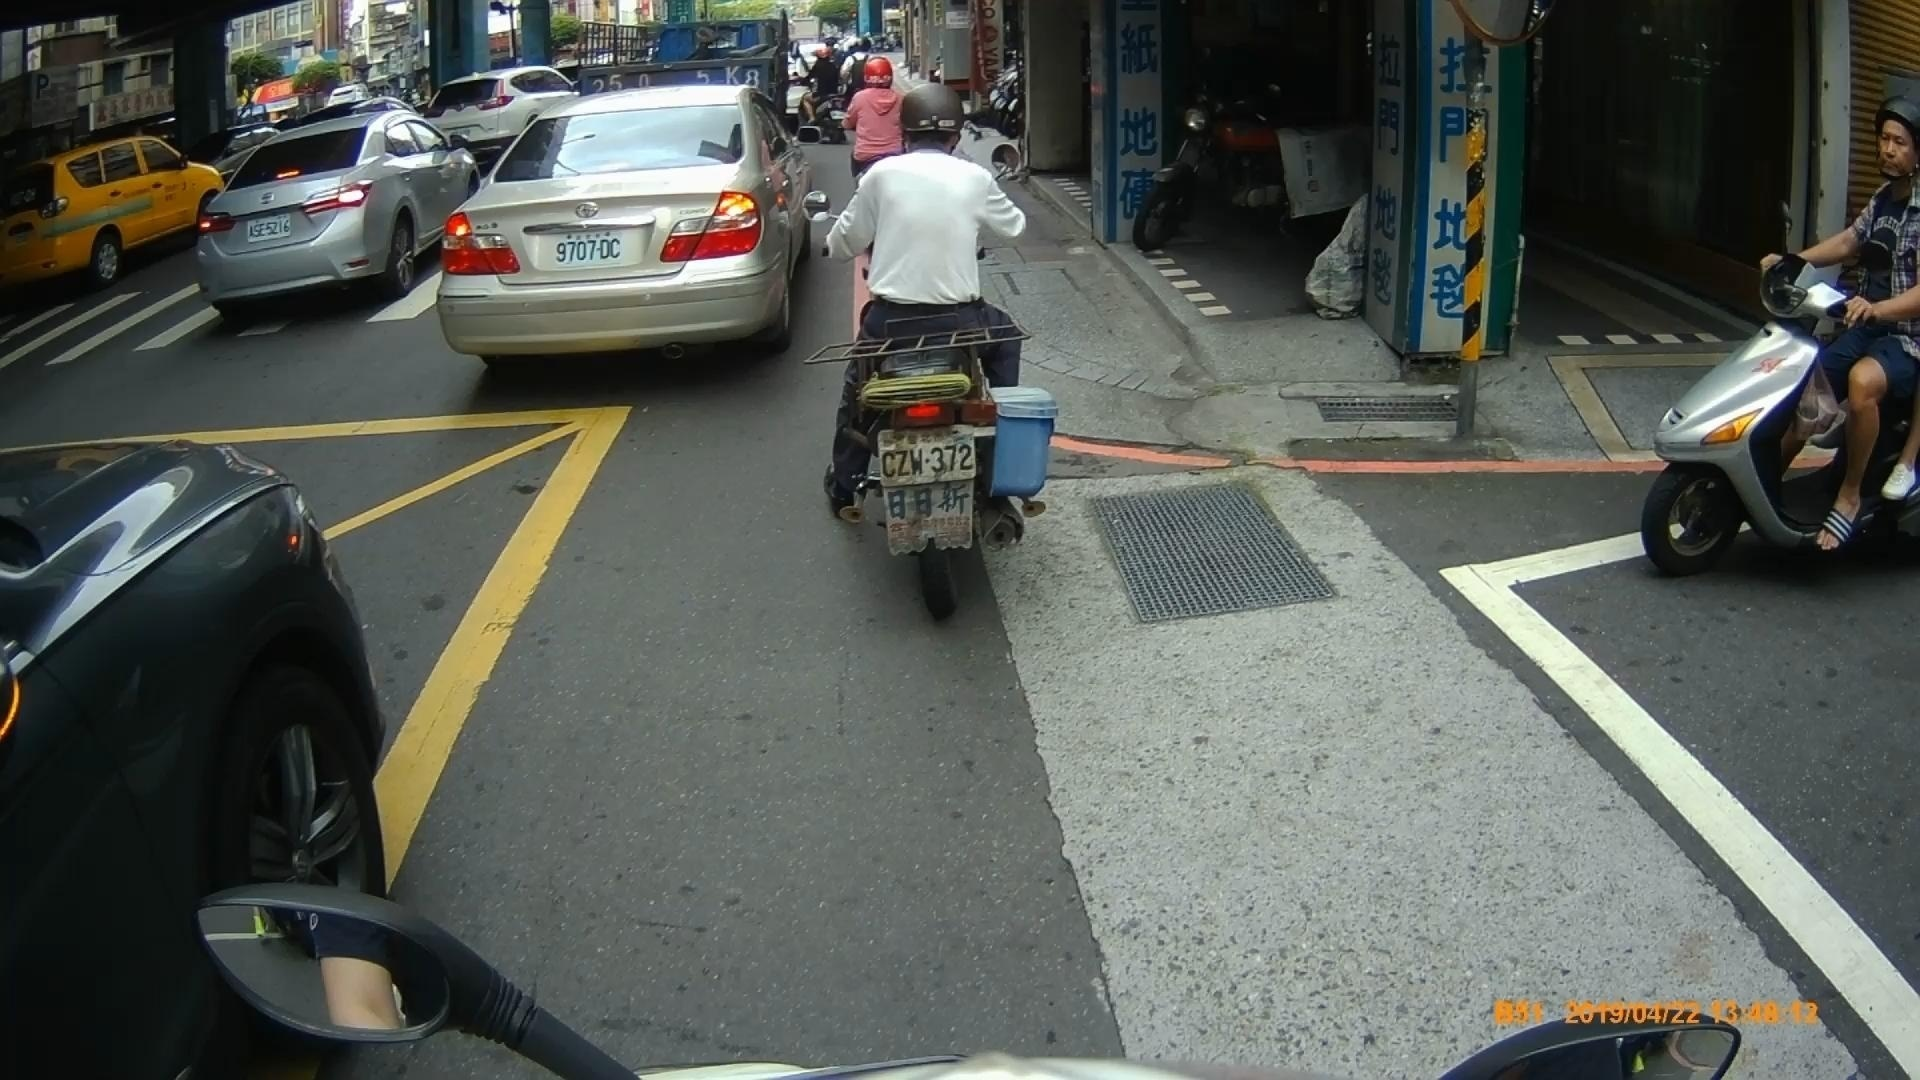License_plate: (878, 430, 977, 479), (551, 228, 628, 267), (242, 215, 299, 238)
